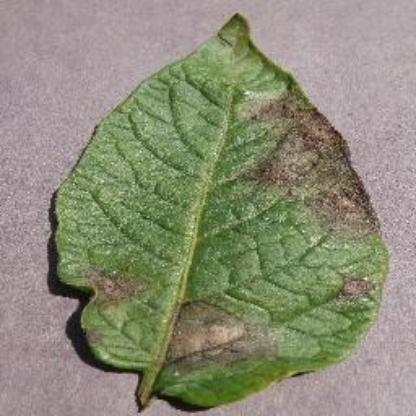Late-Blight: (49, 20, 393, 402)
